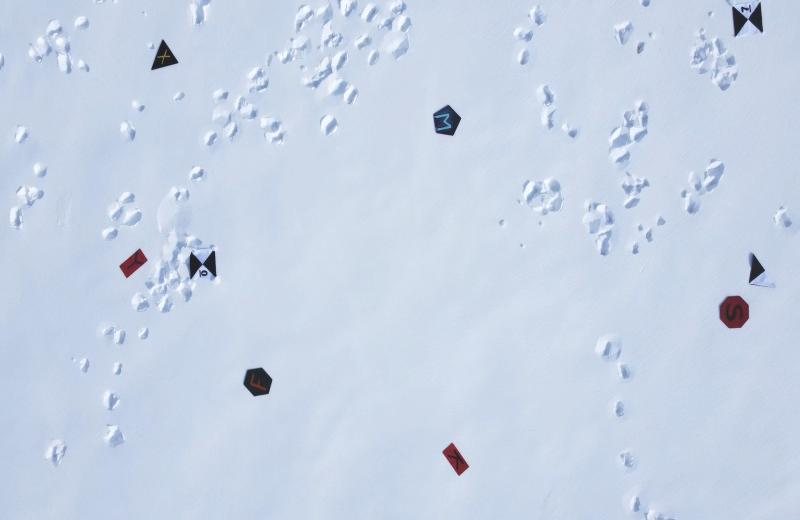Hexagon: (241, 365, 271, 397)
Octagon: (718, 291, 750, 329)
Pentagon: (431, 103, 462, 137)
Rectangle: (441, 443, 471, 479), (119, 245, 148, 280)
Triangle: (150, 37, 178, 74)
